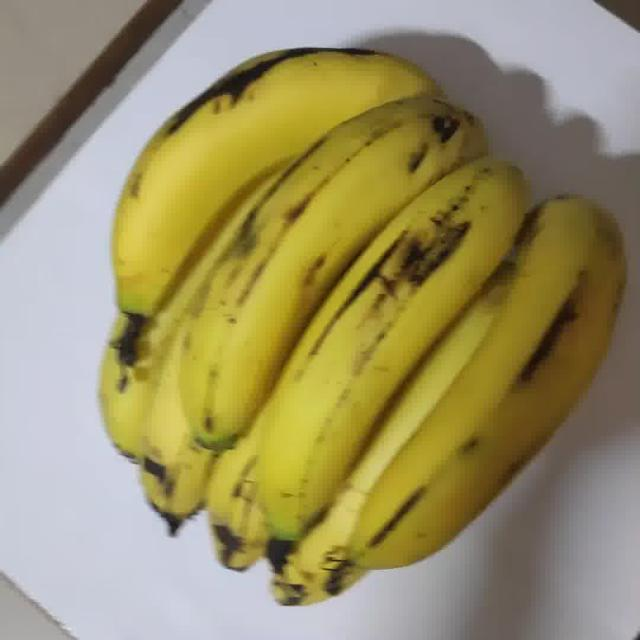banana_pacche: (10, 12, 626, 628)
